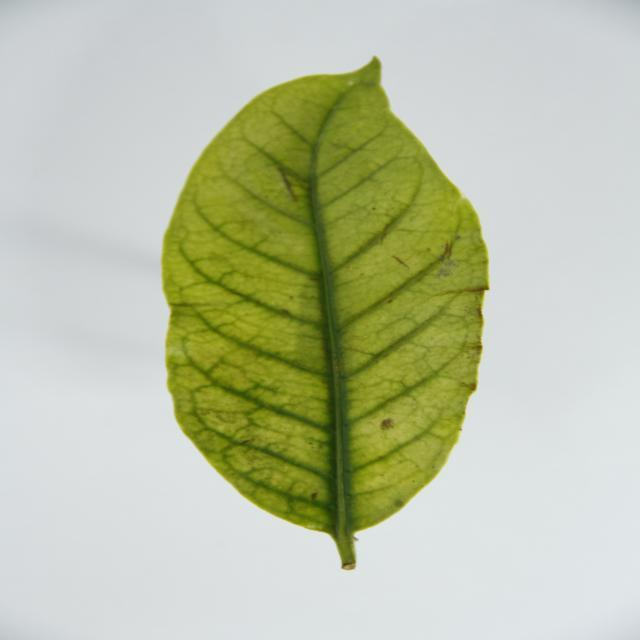DeficienciaNutricional-Manganeso: (163, 59, 488, 569)
